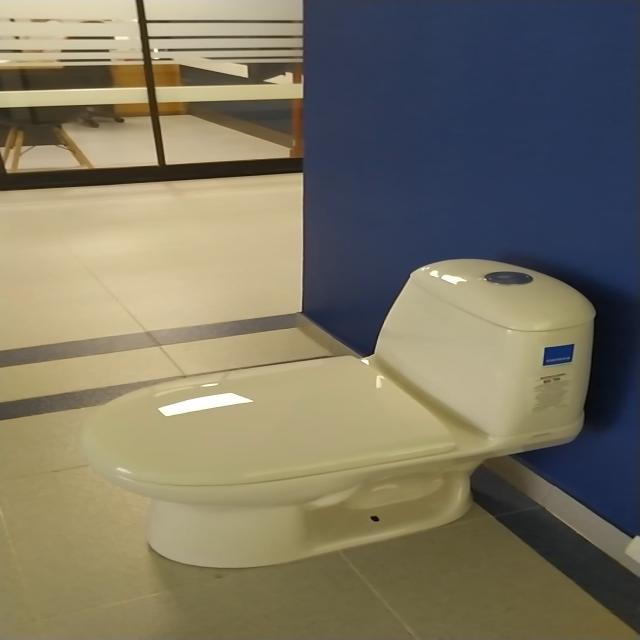toilet: (80, 257, 596, 569)
